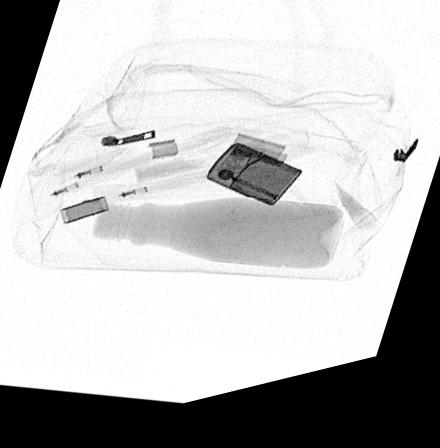Lighter: (205, 154, 302, 221)
